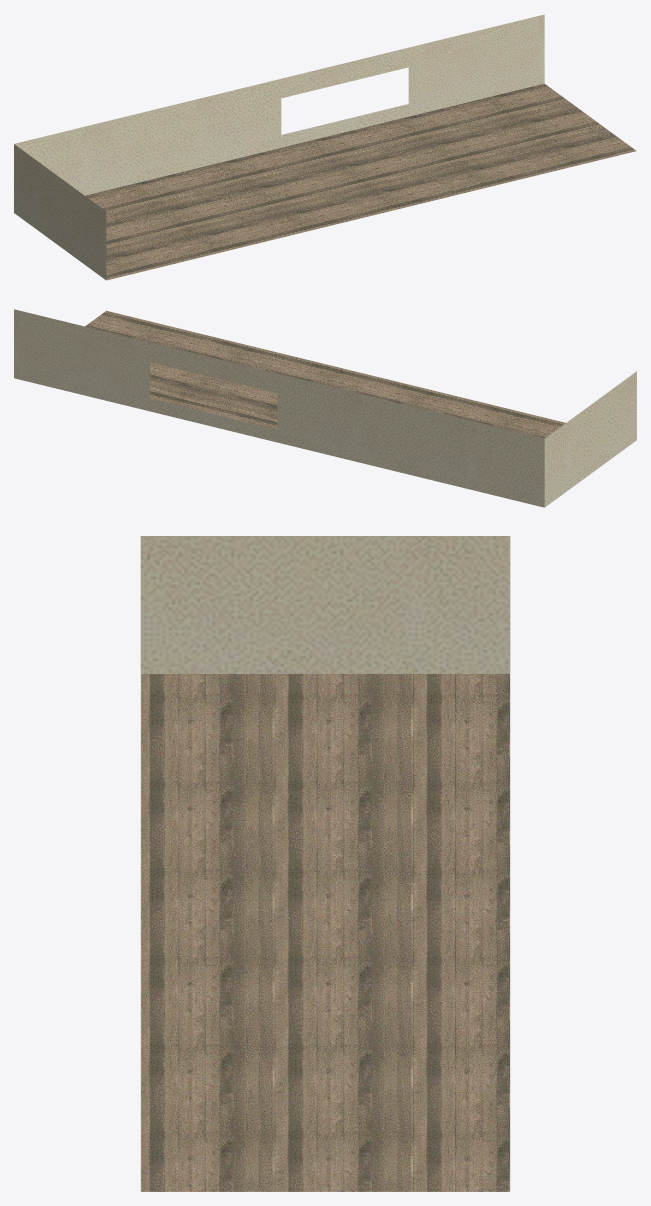
The model's file is EntranceCorridorRoom.glb.
3 views of the same model, one above another, from view 1: azimuth 30°, elevation 25°; view 2: azimuth 150°, elevation 25°; view 3: azimuth 270°, elevation 25° (orthographic). The views are drawn at different scales.
Visible parts, largest first — view 1: Cube; view 2: Cube; view 3: Cube.
Part boxes in pixels (x1,y1,x2,y2): Cube: [14, 14, 636, 280]; Cube: [14, 309, 636, 507]; Cube: [140, 536, 510, 1191].
Bounding box in the file's own units: 18.5 × 2.3 × 5.58.
1 material, 1 textured.
